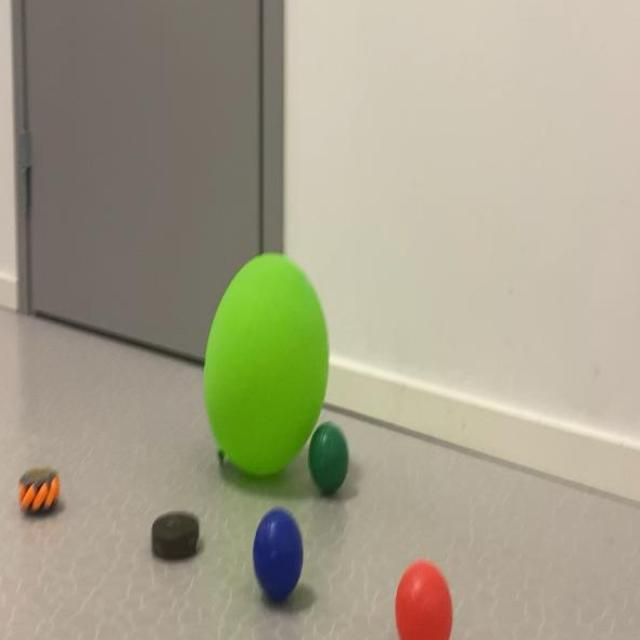blue ball: (236, 512, 321, 611)
green ball: (315, 429, 354, 500)
red ball: (393, 559, 454, 640)
